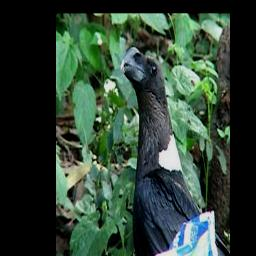Crow: (120, 47, 210, 254)
